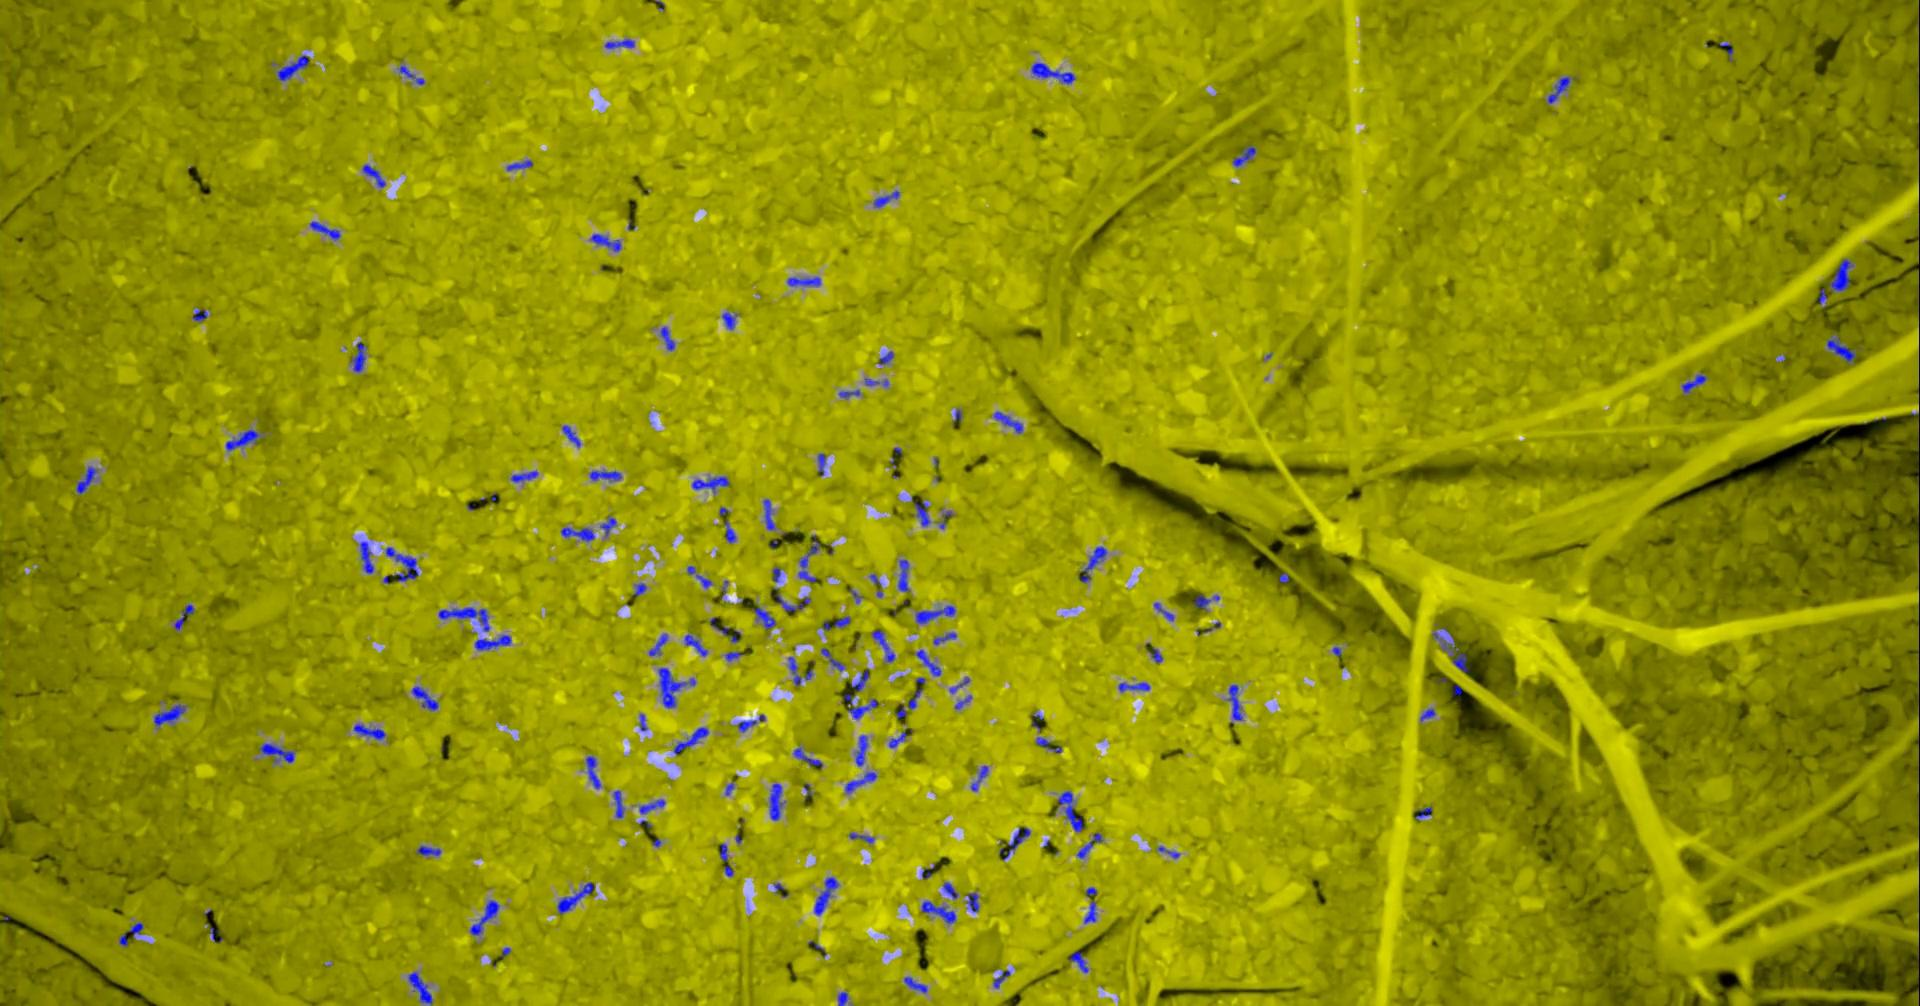ant: (658, 667, 695, 708), (1432, 633, 1468, 672), (438, 607, 489, 631), (557, 882, 593, 913), (1057, 791, 1083, 831), (385, 547, 417, 580), (469, 899, 498, 935), (797, 535, 819, 582), (998, 827, 1030, 859), (673, 727, 709, 754), (1031, 62, 1076, 84), (1079, 546, 1106, 582), (772, 587, 810, 611), (814, 876, 838, 915), (843, 694, 877, 718), (277, 55, 309, 80), (408, 972, 432, 1005), (921, 901, 955, 923), (1829, 258, 1851, 291), (871, 629, 894, 661), (152, 704, 184, 727), (844, 771, 877, 793), (1826, 338, 1855, 362), (916, 605, 955, 622), (225, 429, 259, 450), (1547, 76, 1572, 103), (259, 743, 295, 762), (1076, 832, 1102, 857), (789, 655, 811, 685), (411, 686, 438, 710), (916, 649, 940, 674), (474, 634, 510, 650), (993, 412, 1022, 432), (792, 747, 822, 767), (309, 221, 339, 240), (691, 476, 728, 492), (1227, 683, 1242, 720), (590, 232, 620, 251), (750, 606, 775, 629), (820, 647, 843, 671), (76, 466, 97, 493), (770, 782, 783, 821), (353, 723, 385, 739), (687, 565, 711, 587), (1232, 145, 1255, 166), (362, 164, 383, 187), (684, 634, 707, 655), (399, 65, 424, 84), (560, 527, 594, 541), (737, 714, 764, 730), (1681, 373, 1705, 392), (174, 605, 193, 629), (350, 342, 366, 371), (359, 541, 373, 573), (585, 756, 599, 788), (872, 191, 899, 207), (1035, 735, 1062, 752), (648, 633, 667, 655), (888, 729, 912, 747), (913, 500, 930, 526), (970, 765, 987, 790), (850, 669, 869, 691), (822, 616, 850, 630), (561, 426, 580, 446), (855, 735, 867, 766), (903, 976, 926, 992), (659, 326, 674, 351), (897, 559, 908, 591), (1153, 602, 1173, 620), (1069, 951, 1087, 972), (639, 799, 664, 813), (869, 573, 883, 597), (763, 499, 775, 528), (589, 470, 621, 480), (599, 516, 616, 535), (505, 159, 532, 170), (786, 277, 820, 286), (510, 470, 537, 481), (604, 38, 634, 48), (993, 970, 1010, 988), (723, 520, 735, 542), (908, 688, 922, 709), (613, 790, 623, 818), (1117, 682, 1149, 691), (1192, 593, 1210, 608), (933, 633, 956, 644), (1084, 901, 1096, 923), (942, 882, 957, 898), (848, 832, 872, 842), (417, 845, 439, 855), (128, 922, 143, 937), (966, 892, 978, 911), (877, 351, 893, 365), (1415, 807, 1431, 819), (192, 307, 207, 320), (1149, 647, 1162, 662), (1420, 708, 1435, 720), (817, 453, 825, 475), (723, 312, 734, 329), (632, 583, 646, 594), (719, 843, 728, 860), (837, 991, 847, 1005)
